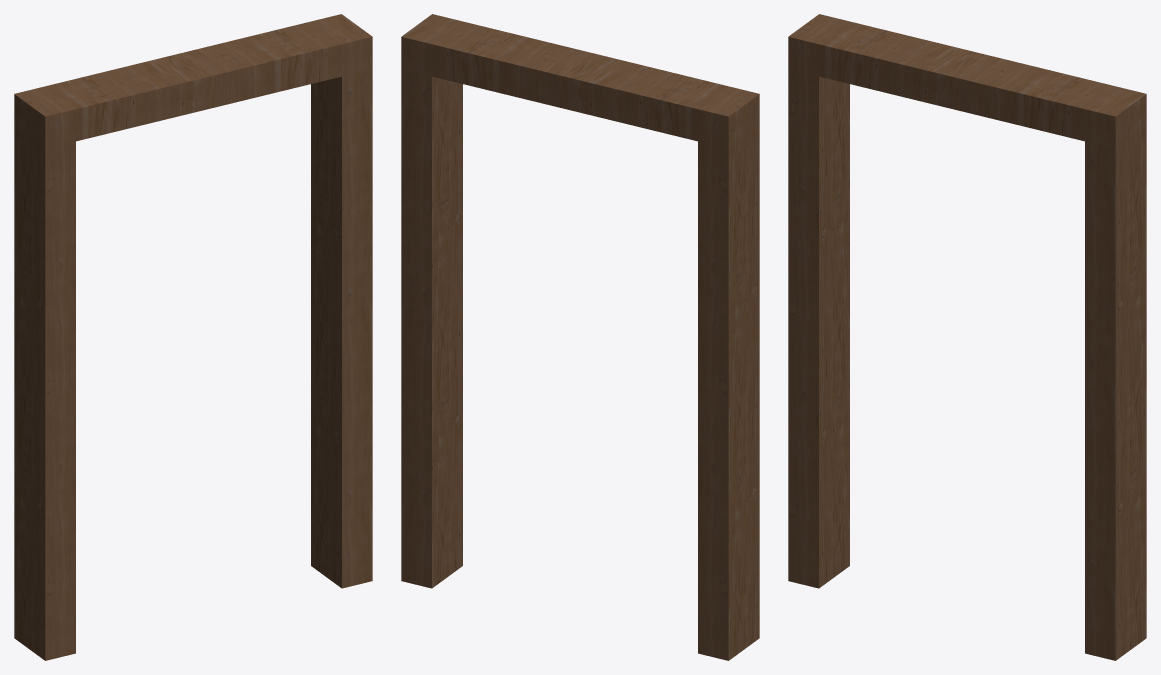
The model's file is build_door.glb.
3 views of the same model, side by side, from view 1: azimuth 30°, elevation 25°; view 2: azimuth 150°, elevation 25°; view 3: azimuth 330°, elevation 25° (orthographic).
Visible parts, largest first — view 1: door; view 2: door; view 3: door.
Part boxes in pixels (left/top/right/bottom): door: left=14, top=14, right=372, bottom=660; door: left=401, top=14, right=759, bottom=660; door: left=788, top=14, right=1146, bottom=660.
Size of the model in its own units: 1.7 by 2.7 by 0.28.
Materials: 1 (1 with a texture image).
